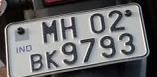0: (89, 11, 104, 33)
2: (106, 8, 126, 31)
3: (117, 30, 136, 55)
7: (79, 35, 96, 62)
9: (59, 39, 78, 64), (97, 34, 116, 58)
B: (28, 51, 43, 71)
H: (58, 15, 78, 39)
K: (44, 48, 58, 69)
M: (40, 18, 58, 42)
